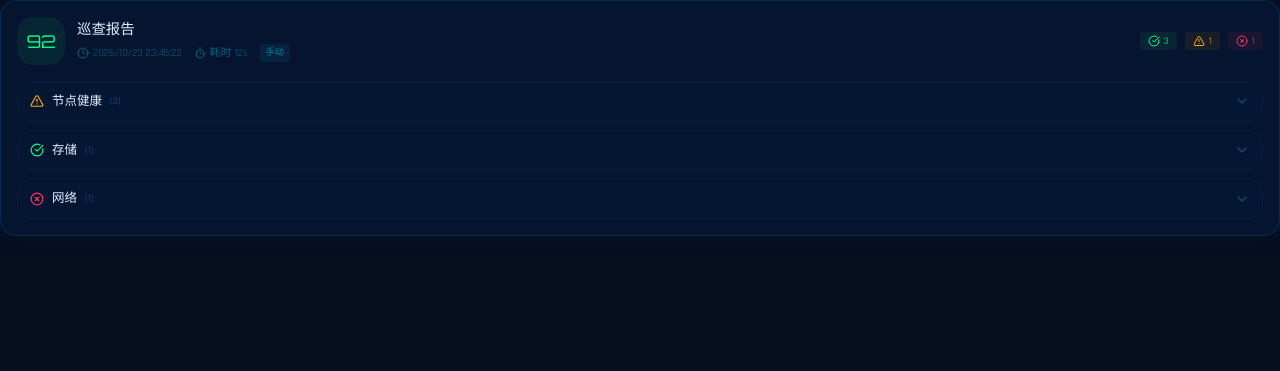
Test: PatrolReport › 展开/折叠 › 点击分类标题应展开检查项
The width and height of the screenshot is (1280, 371).
Click the text "节点健康". click: (77, 101)
box: [52, 92, 102, 111]
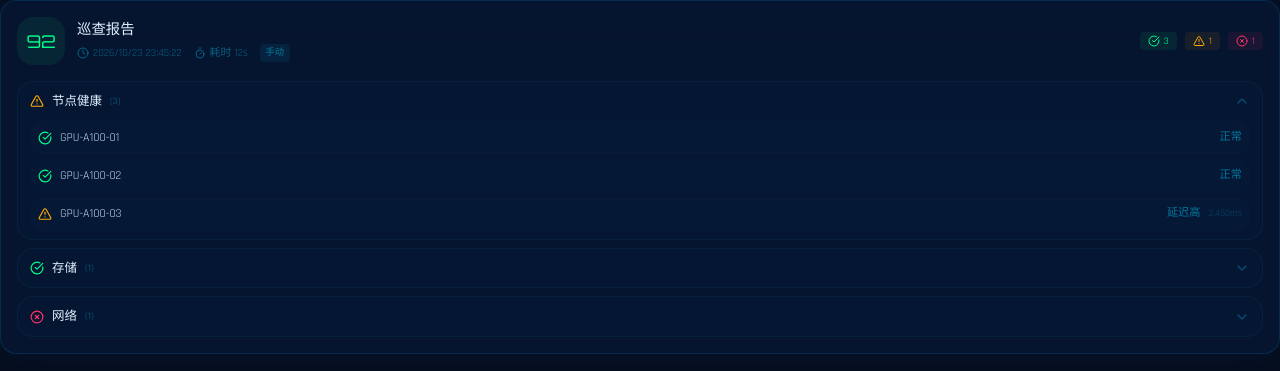
Result: the text "GPU-A100-01" is shown at [60, 130, 119, 145]
Result: the text "GPU-A100-02" is shown at [60, 168, 121, 183]
Result: the text "GPU-A100-03" is shown at [60, 206, 122, 221]
